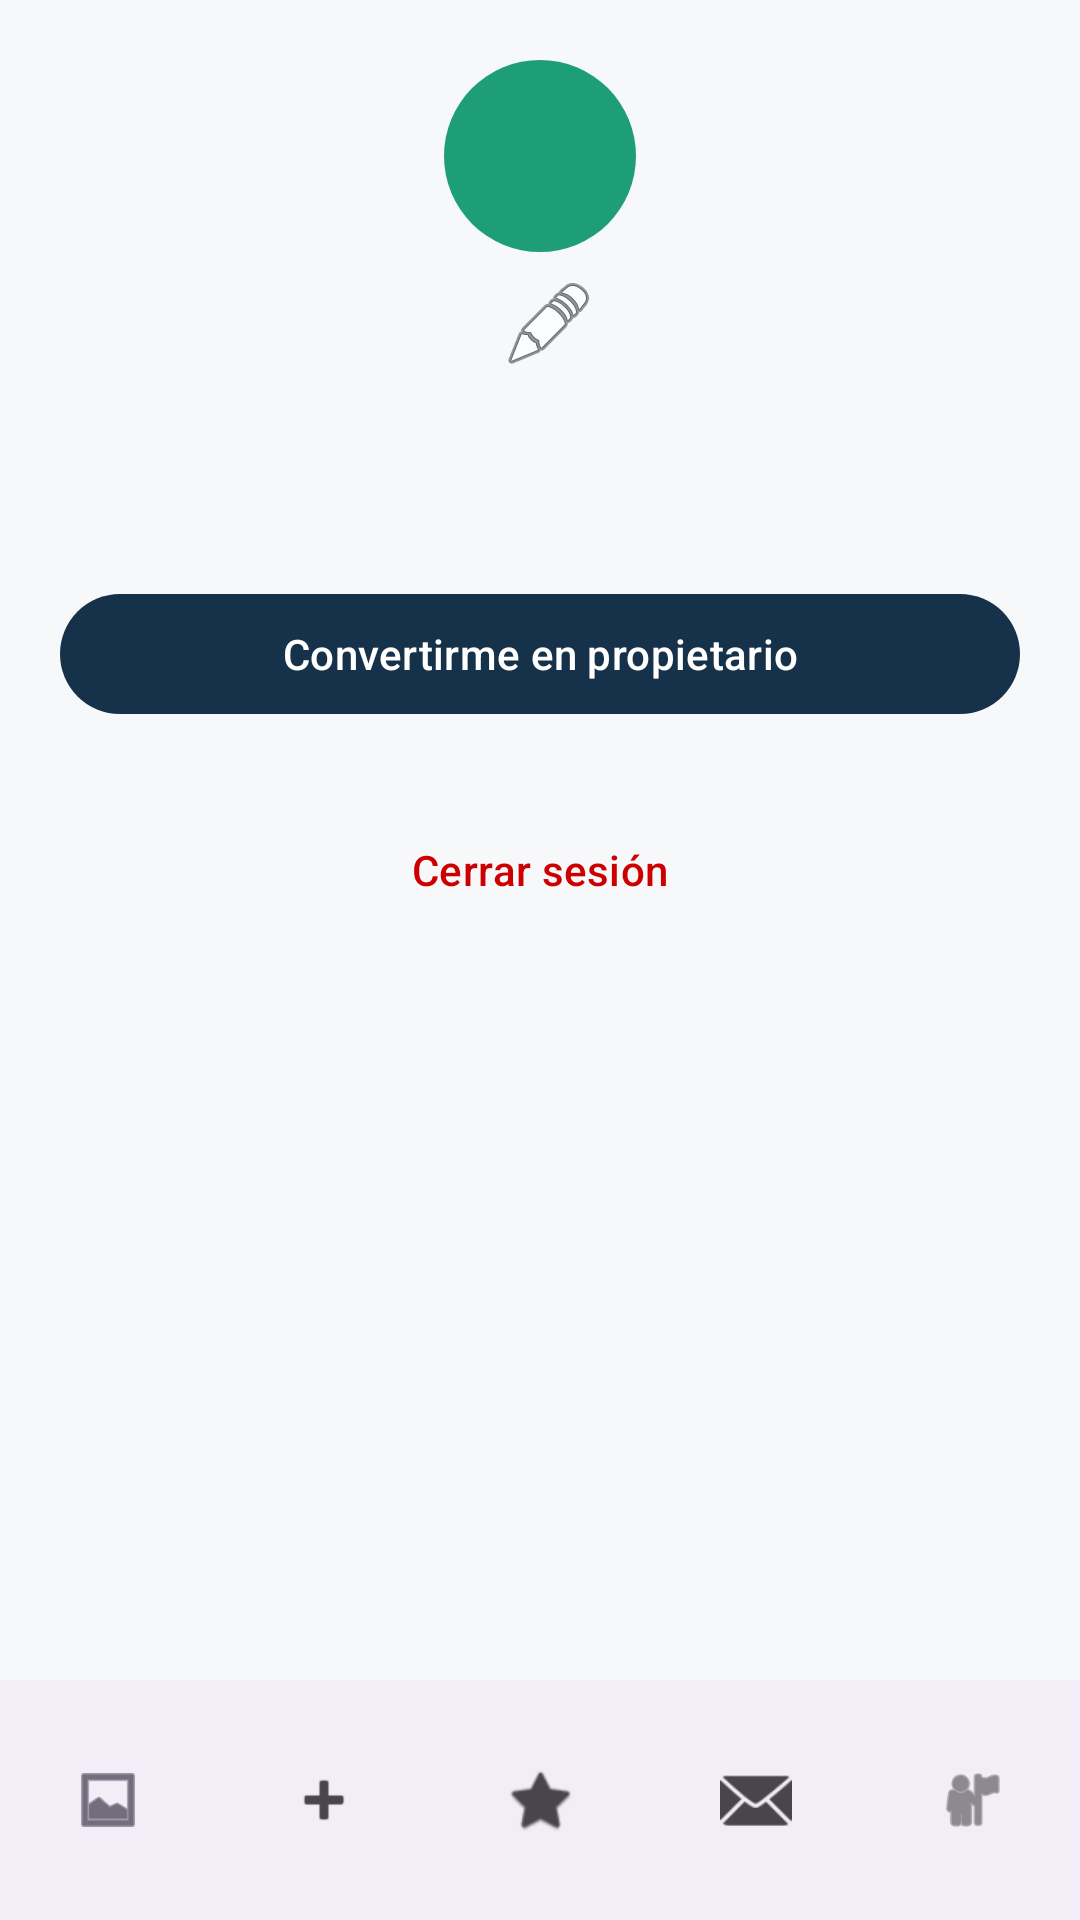

Named icons in this screenshot (1080w x 1920h) and their bounding boxes, rect(x1, y1, x2, y2):
Editar perfil: rect(508, 283, 589, 364)
